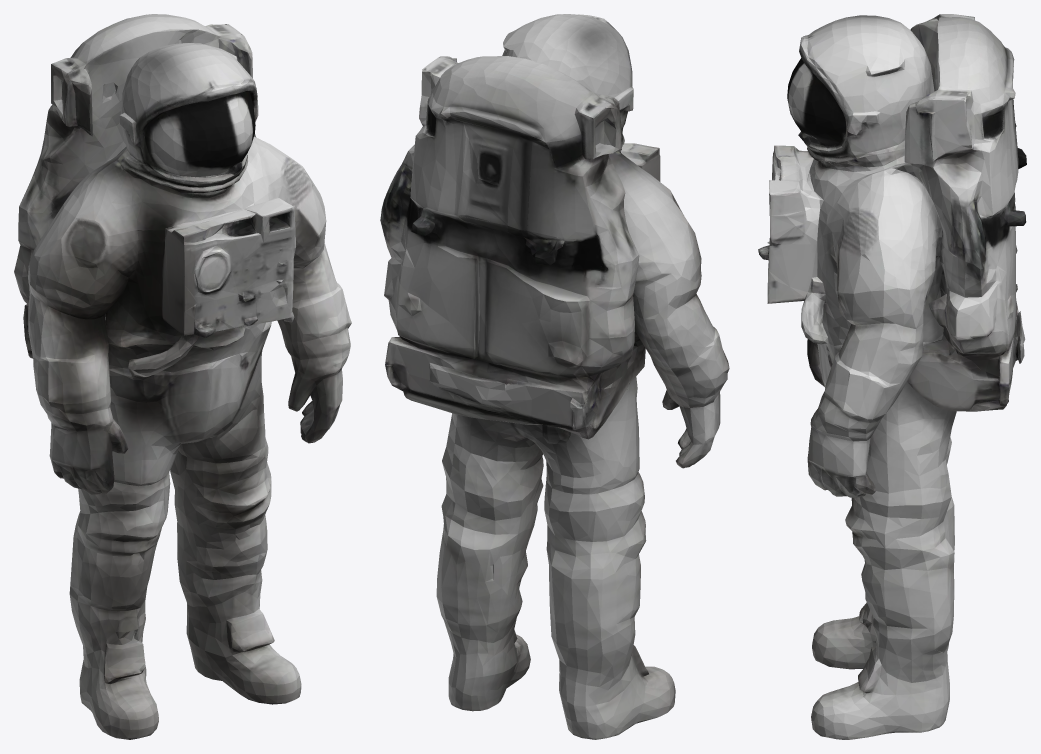
Rendered from astronaut-stand.glb.
3 views of the same model, side by side, from view 1: azimuth 30°, elevation 25°; view 2: azimuth 150°, elevation 25°; view 3: azimuth 270°, elevation 25° (orthographic). The views are drawn at different scales.
Visible parts, largest first — view 1: geometry_0; view 2: geometry_0; view 3: geometry_0.
Boxes of the visible parts, x1,y1,x2,y2 form: geometry_0: [14, 14, 351, 739]; geometry_0: [380, 14, 729, 739]; geometry_0: [758, 14, 1026, 739].
Size of the model in its own units: 0.4885 by 0.9999 by 0.3649.
1 material, 1 textured.
